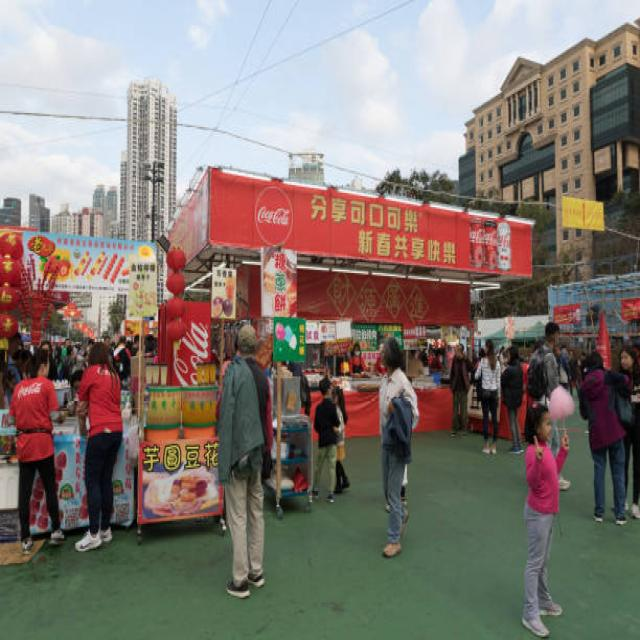Emperan: (170, 159, 545, 474), (0, 212, 164, 579), (115, 290, 257, 556)
